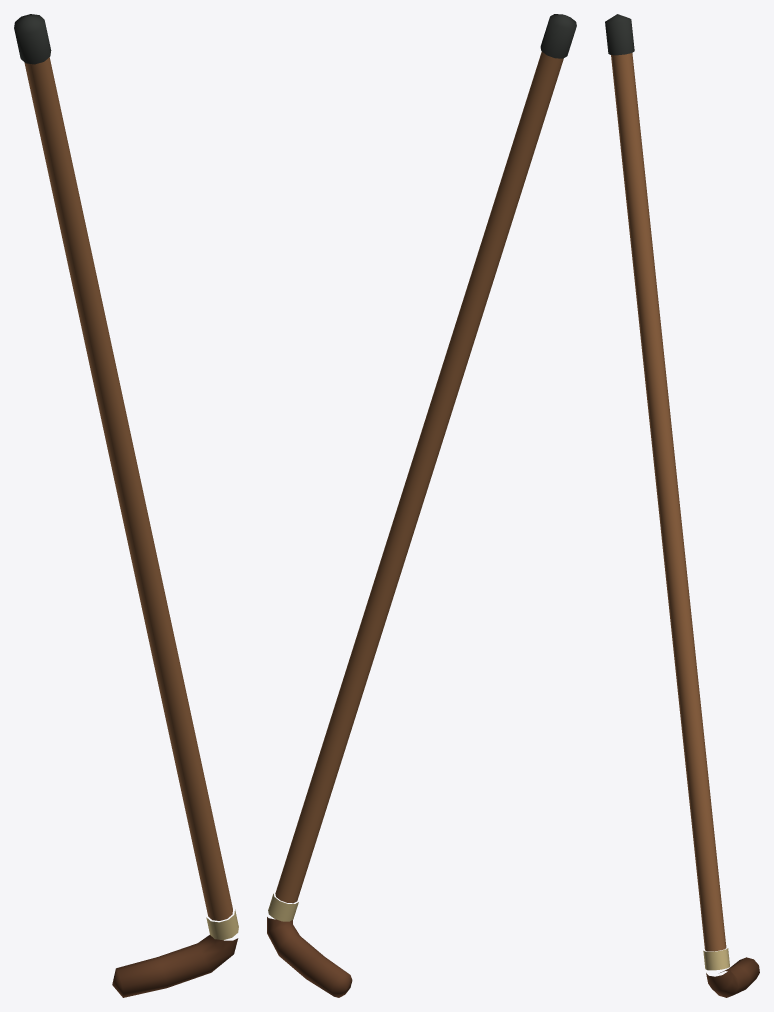
The model's file is old-cane-leandro.glb.
3 views of the same model, side by side, from view 1: azimuth 30°, elevation 25°; view 2: azimuth 150°, elevation 25°; view 3: azimuth 270°, elevation 25° (orthographic). The views are drawn at different scales.
Parts seen in each view (by area): view 1: Acc_Male_Hand_Cane; view 2: Acc_Male_Hand_Cane; view 3: Acc_Male_Hand_Cane.
Boxes of the visible parts, x1,y1,x2,y2 form: Acc_Male_Hand_Cane: [14, 14, 238, 997]; Acc_Male_Hand_Cane: [267, 14, 576, 997]; Acc_Male_Hand_Cane: [605, 14, 759, 997].
Size of the model in its own units: 0.1404 by 0.5159 by 0.0807.
